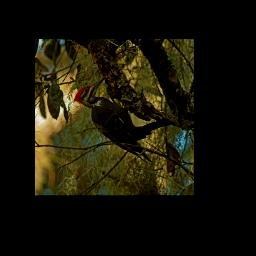Woodpecker: (73, 78, 154, 163)
